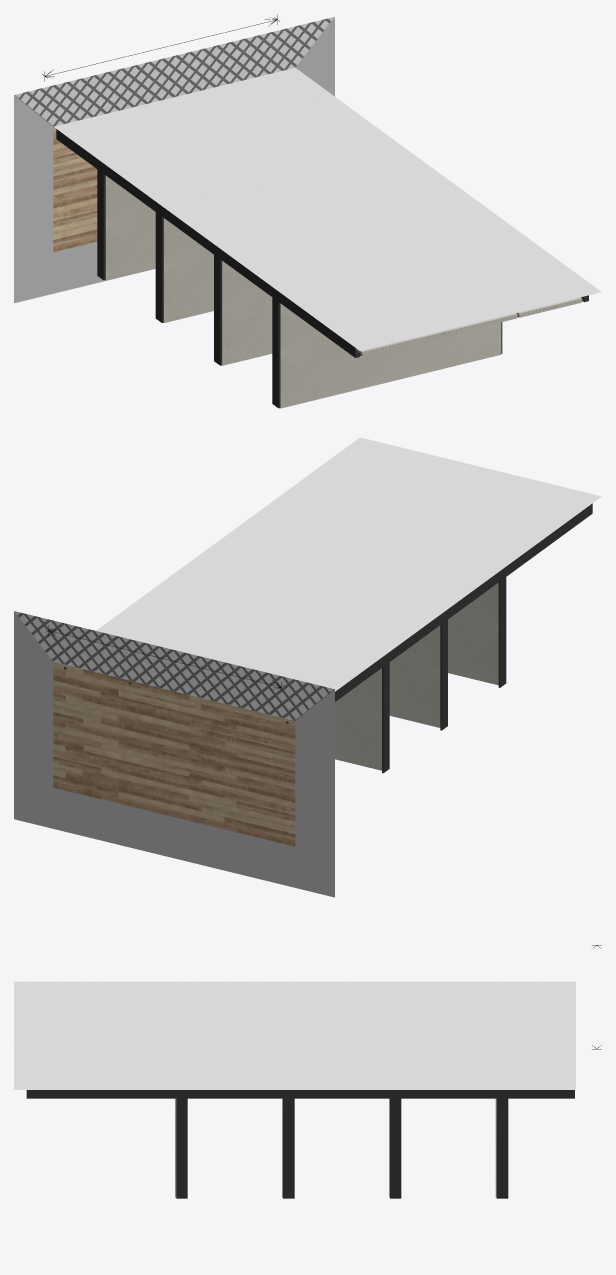
The model's file is C2 Media + D Media TI.OBJ.
3 renders of one model, top to bottom at view 1: azimuth 30°, elevation 25°; view 2: azimuth 150°, elevation 25°; view 3: azimuth 270°, elevation 25°, orthographic. The views are drawn at different scales.
Visible parts, largest first — view 1: Object_63, Object_64, Object_57, Object_70, Object_62, Object_47, Object_42, Object_52, Object_2, Object_68, Object_66, Object_6 (+4 smaller); view 2: Object_63, Object_62, Object_64, Object_68, Object_70, Object_66, Object_52, Object_57, Object_47, Object_2, Object_60, Object_50 (+1 smaller); view 3: Object_63, Object_34, Object_46, Object_56, Object_61, Object_51.
Part boxes in pixels (box(x1,y1,x2,y2)): Object_63: box(54, 67, 601, 350); Object_64: box(14, 17, 334, 126); Object_57: box(280, 303, 501, 408); Object_70: box(14, 95, 53, 302); Object_62: box(53, 127, 97, 252); Object_47: box(163, 218, 213, 322); Object_42: box(105, 175, 155, 280); Object_52: box(222, 260, 272, 365); Object_2: box(56, 129, 359, 357); Object_68: box(14, 242, 155, 303); Object_66: box(295, 17, 334, 96); Object_6: box(356, 313, 517, 356); Object_63: box(96, 437, 601, 691); Object_62: box(53, 662, 295, 846); Object_64: box(14, 611, 334, 720); Object_68: box(14, 787, 334, 897); Object_70: box(295, 689, 334, 897); Object_66: box(14, 611, 53, 818); Object_52: box(389, 625, 440, 727); Object_57: box(448, 583, 498, 685); Object_47: box(335, 668, 381, 770); Object_2: box(335, 503, 592, 701); Object_60: box(498, 577, 506, 687); Object_50: box(382, 662, 389, 773); Object_63: box(14, 981, 575, 1089); Object_34: box(26, 1090, 574, 1098); Object_46: box(496, 1098, 508, 1198); Object_56: box(283, 1098, 294, 1198); Object_61: box(176, 1098, 187, 1198); Object_51: box(390, 1098, 401, 1198).
Bounding box in the file's own units: 1626 × 1034 × 2817.
11 materials, 11 textured.
